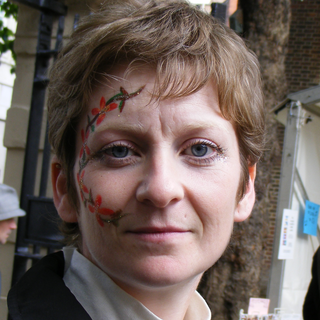eye: (173, 134, 227, 167), (94, 139, 142, 164)
